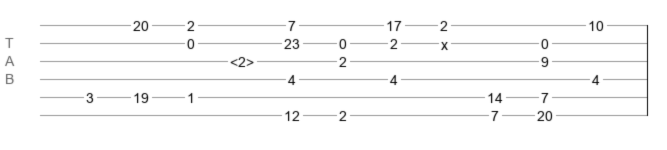0: (187, 36, 195, 46), (339, 36, 347, 46), (541, 36, 549, 46)
1: (187, 90, 195, 100)
10: (588, 18, 604, 28)
12: (284, 108, 300, 118)
14: (487, 90, 503, 100)
17: (386, 18, 402, 28)
19: (133, 90, 149, 100)
2: (187, 18, 195, 28), (339, 54, 347, 64), (339, 108, 347, 118), (390, 36, 398, 46), (440, 18, 448, 28)
20: (133, 18, 149, 28), (537, 108, 553, 118)
23: (284, 36, 300, 46)
3: (86, 90, 94, 100)
4: (288, 72, 296, 82), (390, 72, 398, 82), (592, 72, 600, 82)
7: (288, 18, 296, 28), (491, 108, 499, 118), (541, 90, 549, 100)
9: (541, 54, 549, 64)
harmonic: (230, 54, 254, 64)
x: (441, 37, 448, 45)
